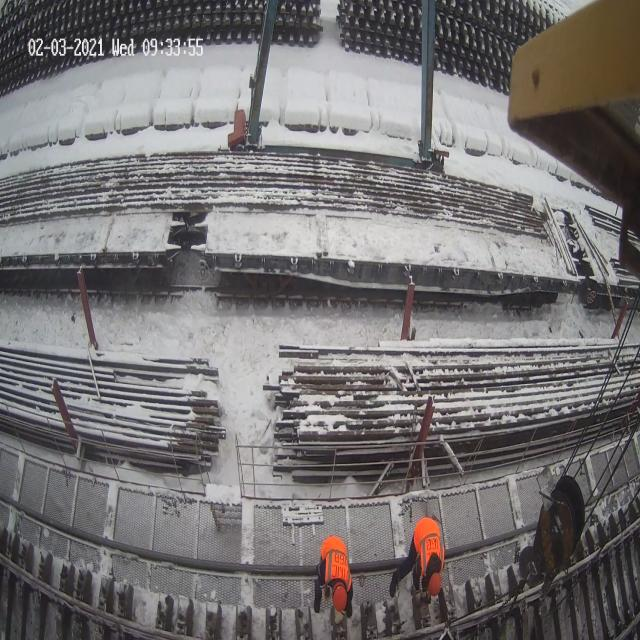Helmet: (332, 583, 347, 612), (428, 572, 441, 596)
Person: (389, 515, 449, 626), (314, 534, 354, 620)
